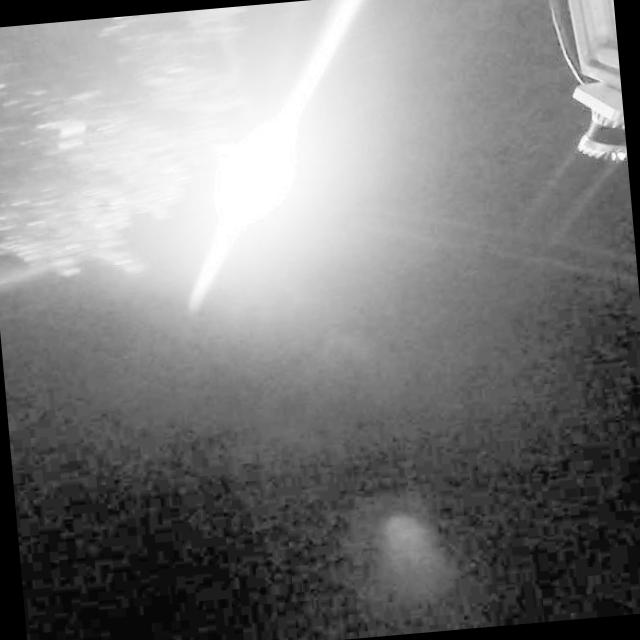Light: (190, 136, 299, 228)
